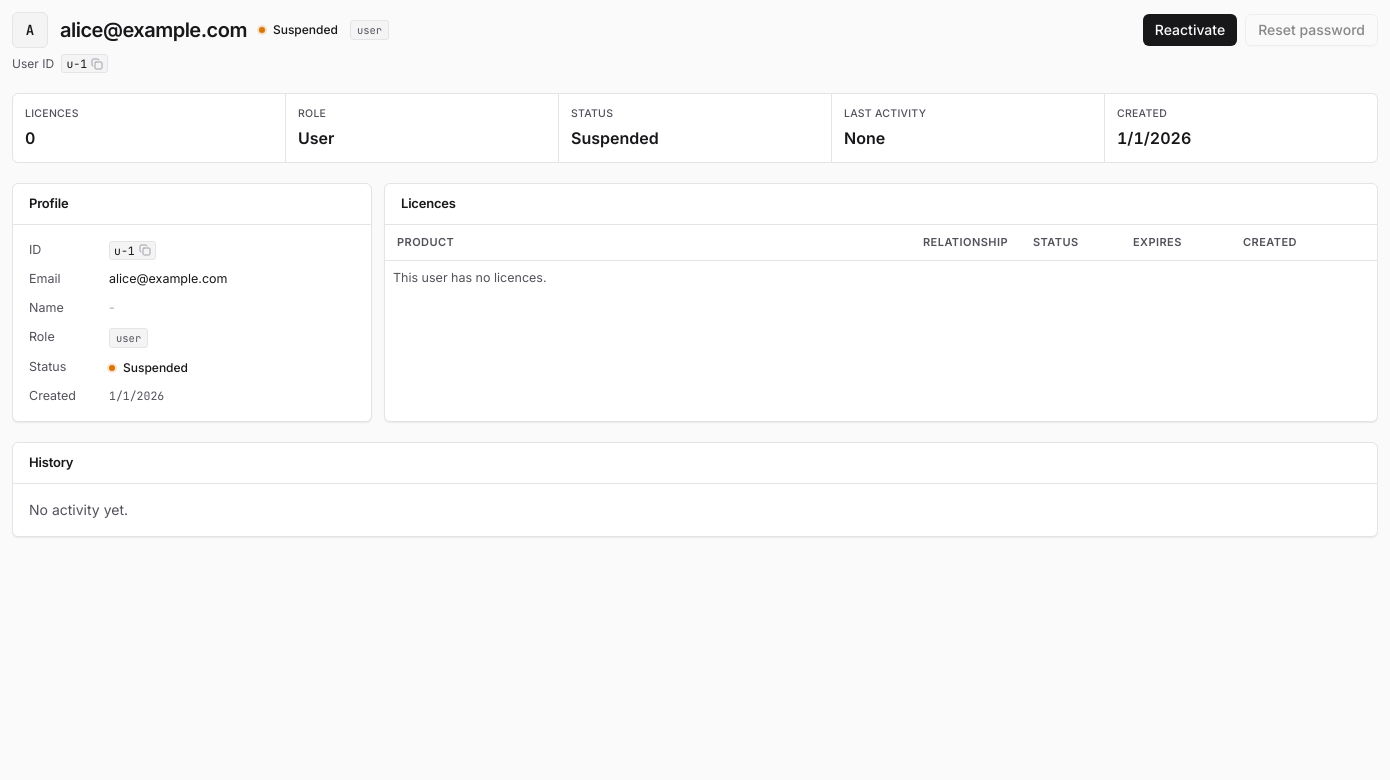
Test case: AdminUserDetailRoute › shows the API error detail when updateUserStatus fails
Check: the heading "alice@example.com" is shown, box 60,15 -> 247,45
Click the button "Reactivate". click: (1190, 30)
box: 1143,14 -> 1237,46
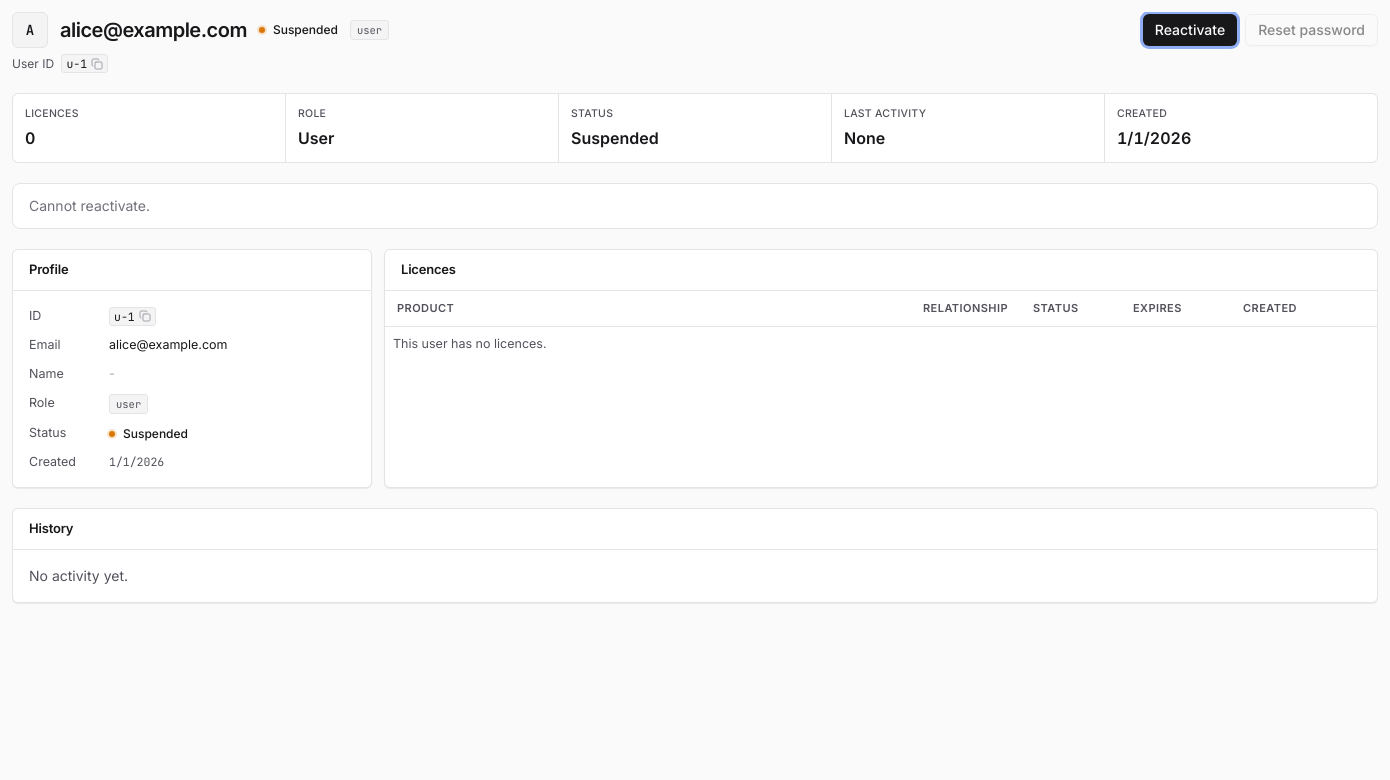
Check: the text "Cannot reactivate." is shown, box 29,197 -> 150,214
